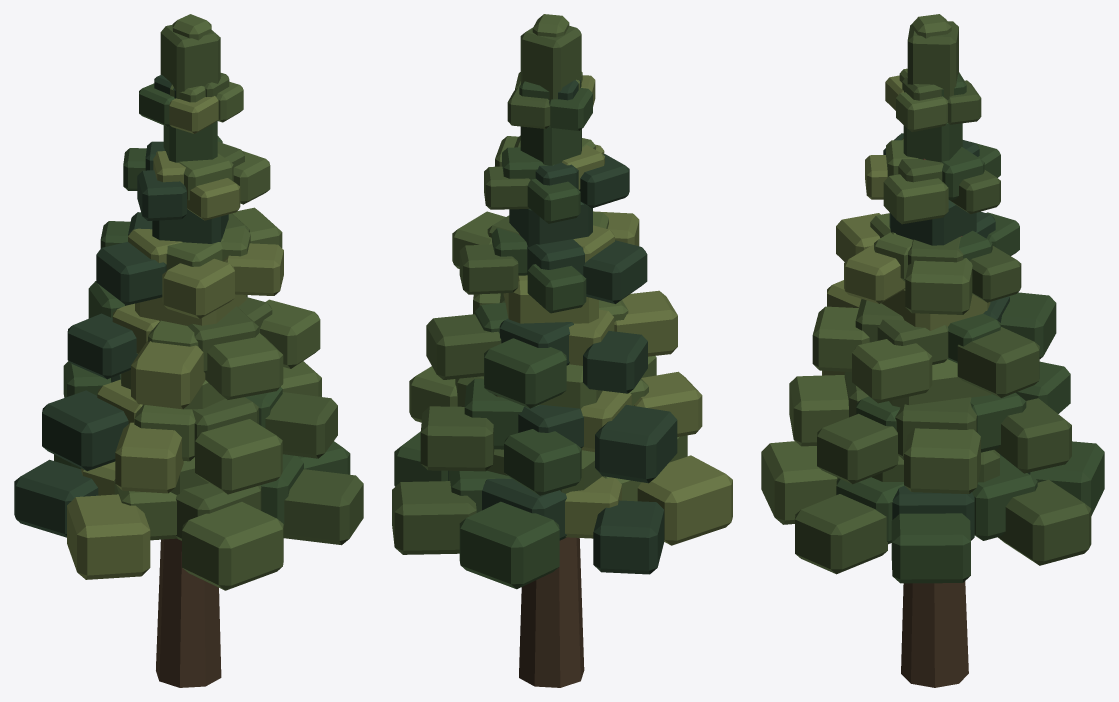
Rendered from pine_mature_3.glb.
3 views of the same model, side by side, from view 1: azimuth 30°, elevation 25°; view 2: azimuth 150°, elevation 25°; view 3: azimuth 270°, elevation 25° (orthographic).
Visible parts, largest first — view 1: pine_mature_3; view 2: pine_mature_3; view 3: pine_mature_3.
Part boxes in pixels (bbox=[...]): pine_mature_3: bbox=[14, 14, 363, 687]; pine_mature_3: bbox=[392, 14, 732, 687]; pine_mature_3: bbox=[761, 14, 1104, 687].
Size of the model in its own units: 9.28 by 20 by 9.5.
